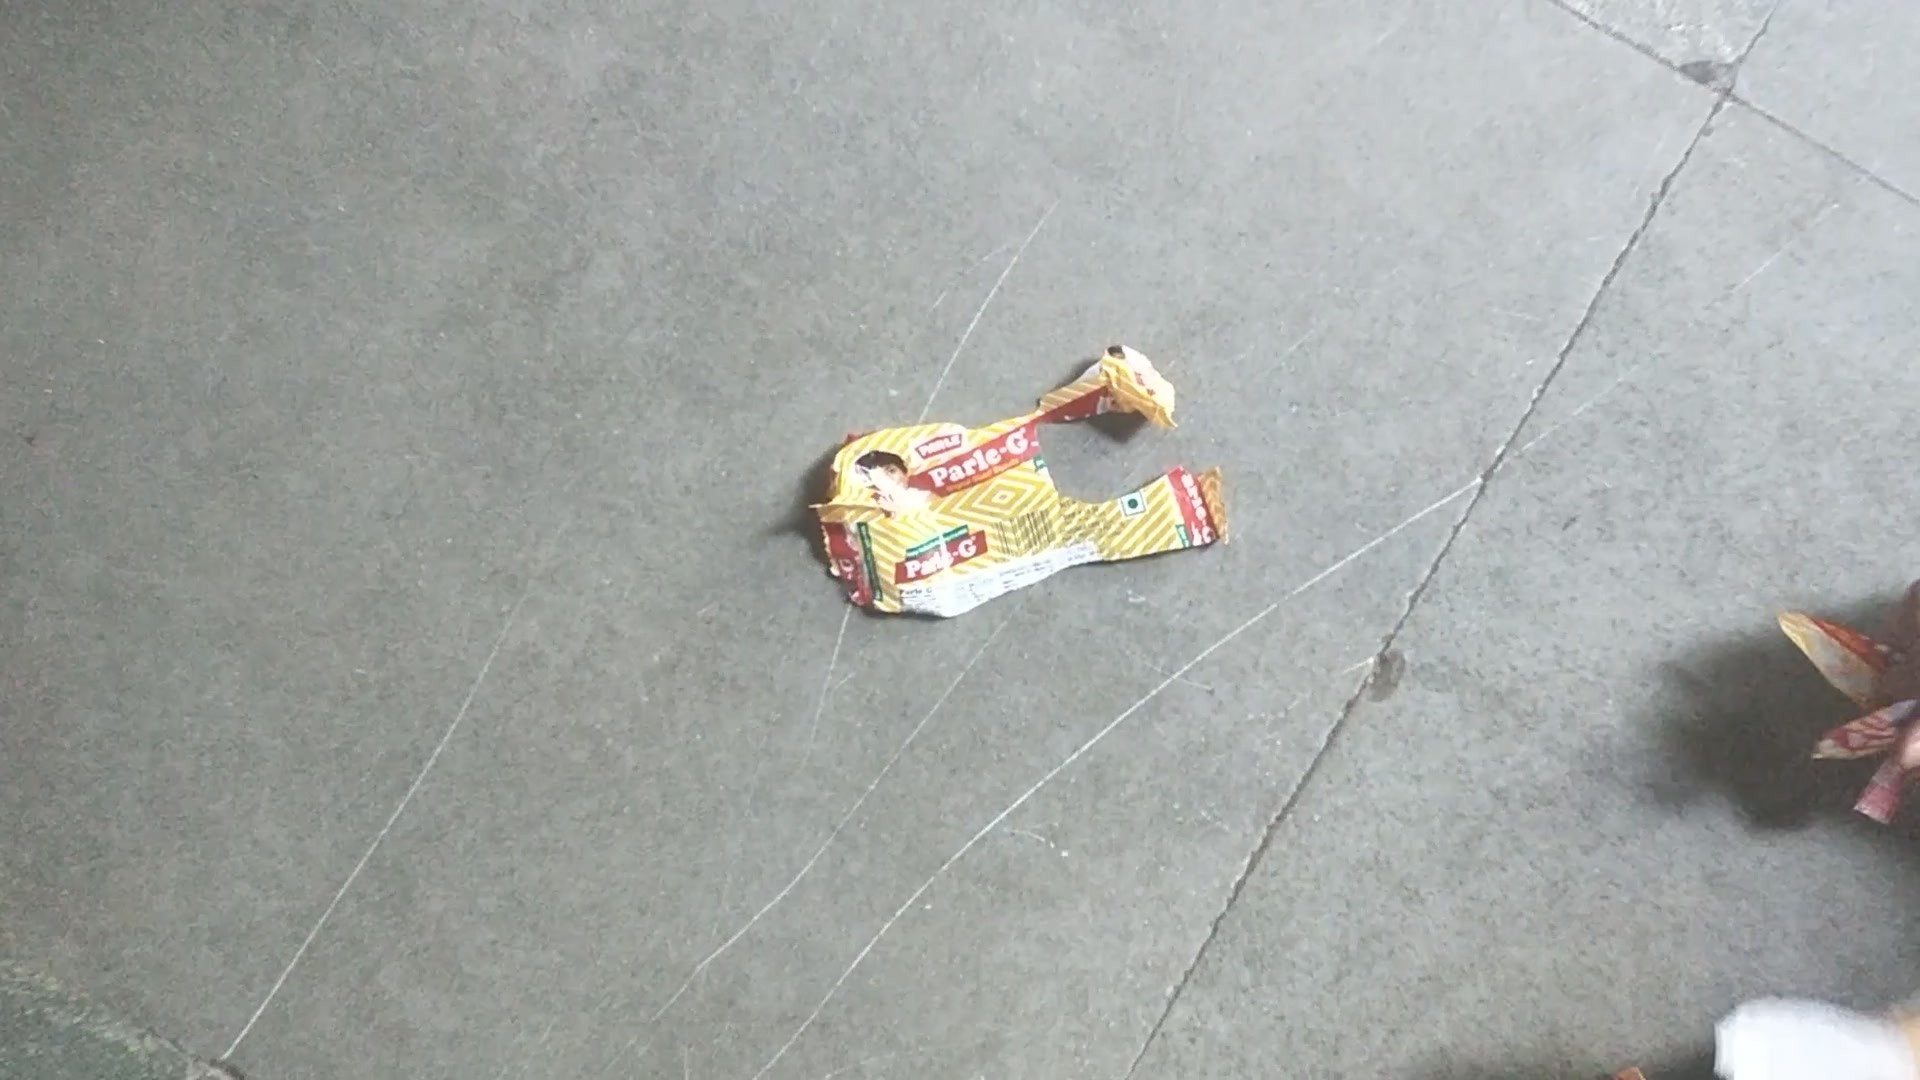parle-g-b: (832, 436, 1043, 578)
